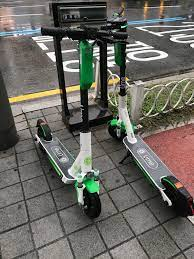kick_handler: (41, 25, 128, 42), (104, 6, 127, 26)
kick_neck: (77, 48, 92, 161), (116, 43, 129, 114)
kick_wheel: (163, 179, 194, 217), (78, 185, 101, 218), (109, 119, 130, 140), (34, 119, 49, 147)
